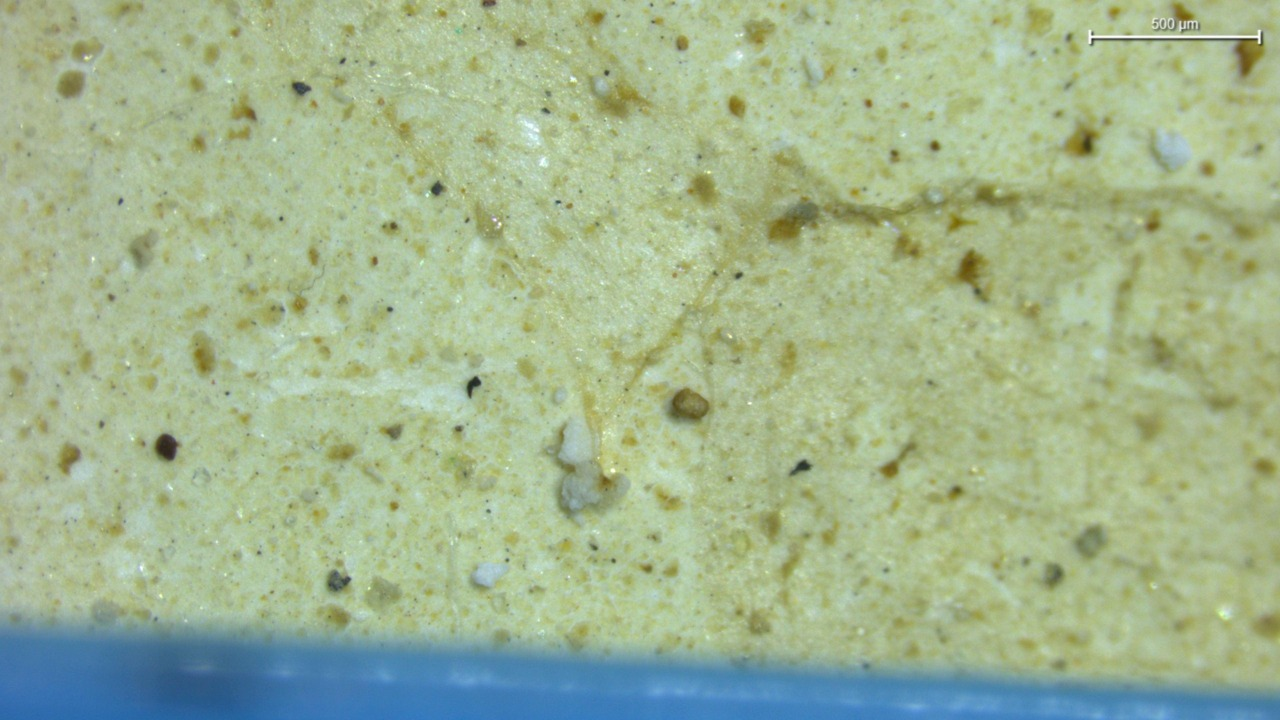microplastic_fragment: (558, 418, 630, 514), (1153, 127, 1192, 170), (558, 418, 592, 465), (471, 563, 508, 588)
